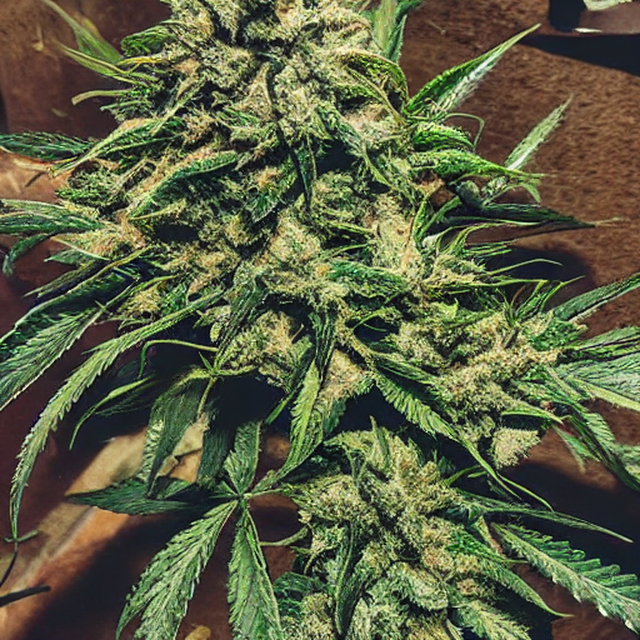Marijuana Plant: (47, 22, 589, 639)
